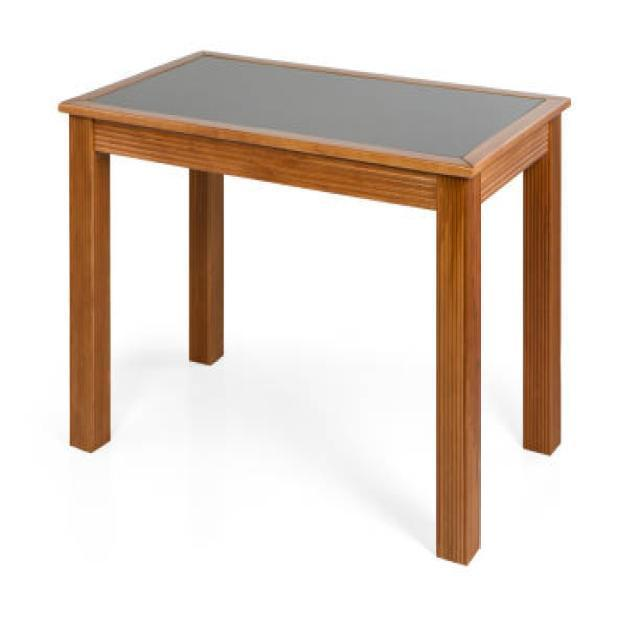table: (57, 47, 571, 564)
